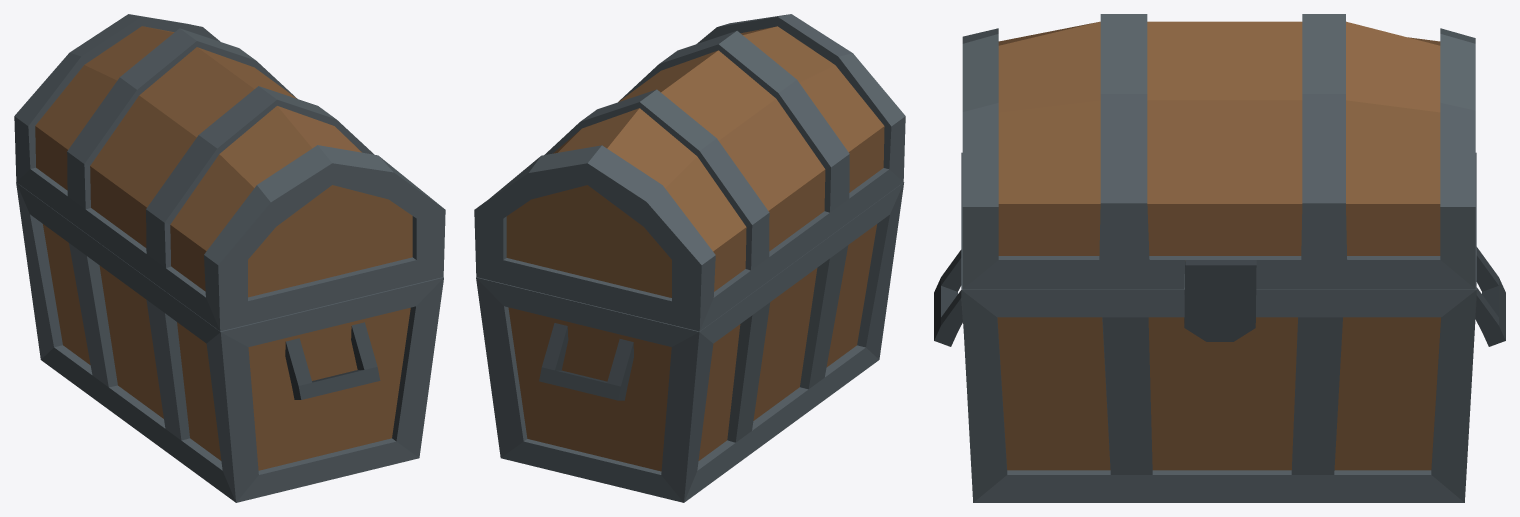
The model's file is Chest-B02.fbx.
3 renders of one model, left to right at view 1: azimuth 30°, elevation 25°; view 2: azimuth 150°, elevation 25°; view 3: azimuth 270°, elevation 25°, orthographic. The views are drawn at different scales.
Visible parts, largest first — view 1: Chest-B-top, Chest-B02; view 2: Chest-B-top, Chest-B02; view 3: Chest-B-top, Chest-B02.
Part boxes in pixels (left/top/right/bottom): Chest-B-top: left=14, top=14, right=445, bottom=331; Chest-B02: left=16, top=182, right=443, bottom=502; Chest-B-top: left=474, top=14, right=905, bottom=331; Chest-B02: left=476, top=182, right=904, bottom=502; Chest-B-top: left=962, top=14, right=1475, bottom=341; Chest-B02: left=934, top=152, right=1505, bottom=502.
Bounding box in the file's own units: 66.38 × 93.28 × 112.
